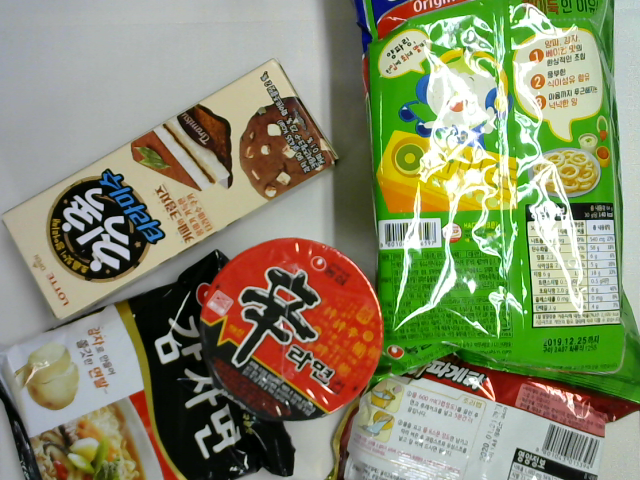Chicchok_Tiramisu: (3, 57, 342, 325)
Oninon_Ring: (352, 1, 640, 411)
Potato: (1, 244, 296, 480)
Sichuan_Chapaghetti: (323, 346, 639, 480)
Sinramen_small: (192, 235, 386, 428)
